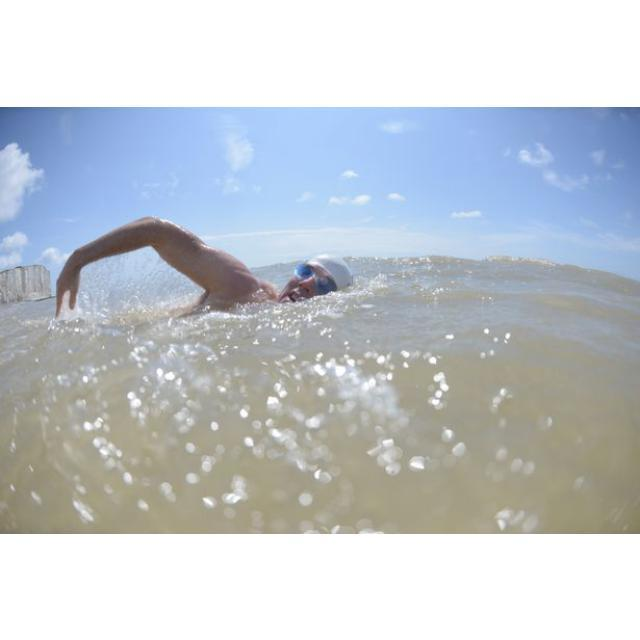human: (55, 213, 353, 325)
